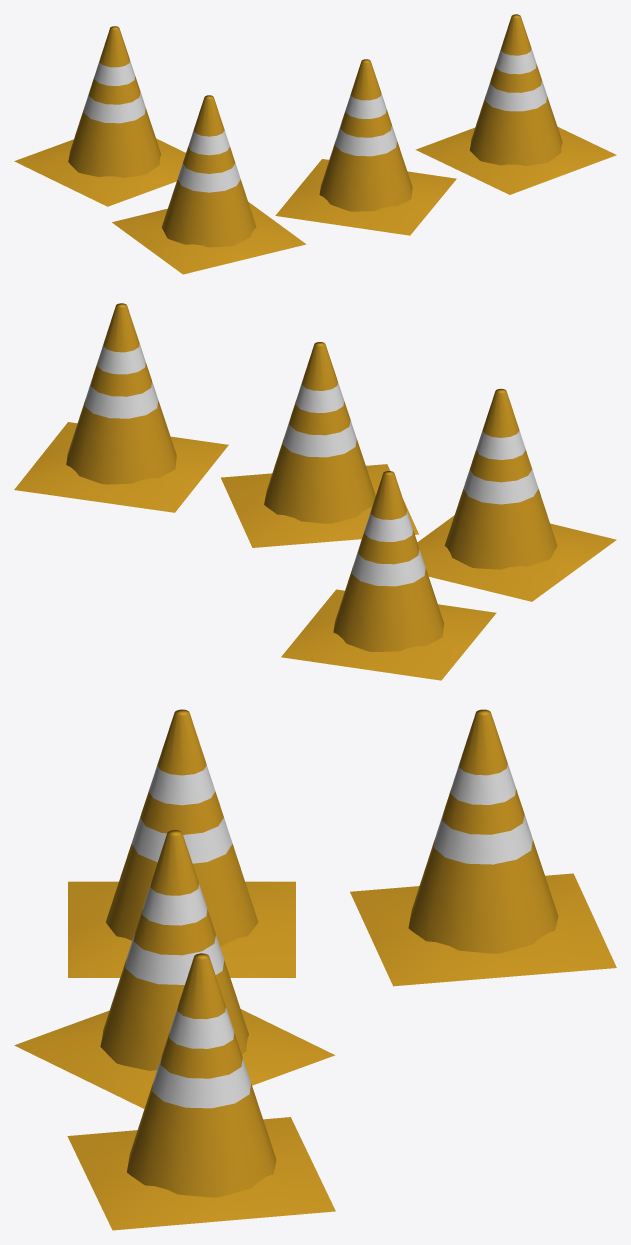
Rendered from SM_TrafficCone_InvertedL.fbx.
3 renders of one model, top to bottom at view 1: azimuth 30°, elevation 25°; view 2: azimuth 150°, elevation 25°; view 3: azimuth 270°, elevation 25°, orthographic. The views are drawn at different scales.
Visible parts, largest first — view 1: pPlane10; view 2: pPlane10; view 3: pPlane10.
Part boxes in pixels (x1,y1,x2,y2): pPlane10: [14, 14, 616, 274]; pPlane10: [14, 303, 616, 680]; pPlane10: [14, 709, 616, 1230].
Bounding box in the file's own units: 252 × 71.53 × 180.
